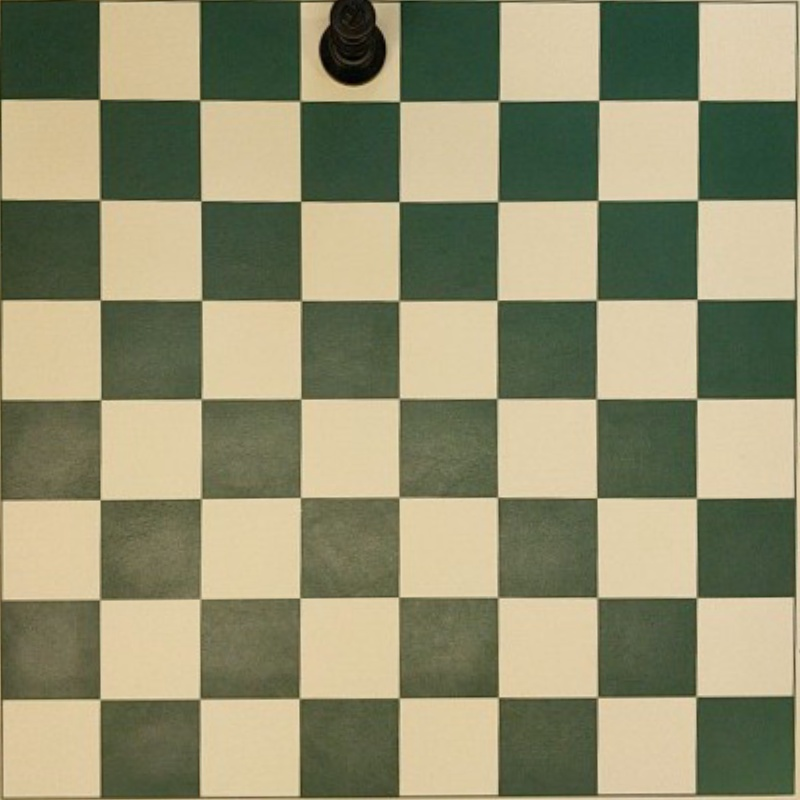black-king: (319, 1, 386, 84)
